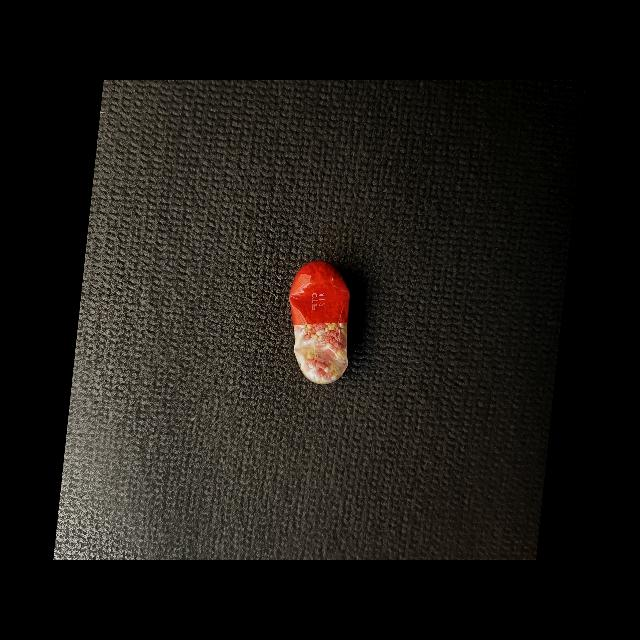Defective Capsule: (289, 261, 350, 384)
